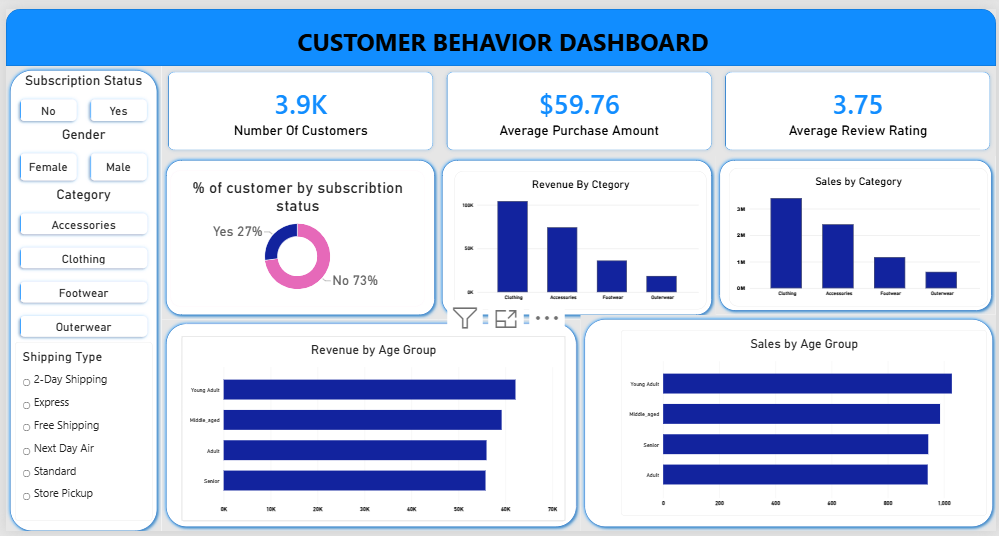

The page's visual inventory and layout, read from the dashboard file:
{"tool":"powerbi","page":{"name":"Page 1","canvas":[2200,1160],"ordinal":0},"visuals":[{"type":"cardVisual","fields":{"Data":["customer_behavior shopping_data.Number Of Customers","customer_behavior shopping_data.Average Purchase Amount","customer_behavior shopping_data.Average Review Rating"]},"box":[345,127.5,1855,200],"z":0},{"type":"shape","box":[5,0,2195,127.5],"z":1000},{"type":"textbox","box":[5,27.5,2195,82.5],"z":2000},{"type":"shape","box":[346.7,690,930,470],"z":3000},{"type":"shape","box":[960,327.5,617.5,362.5],"z":4000},{"type":"shape","box":[1577.5,327.5,622.5,352.5],"z":5000},{"type":"clusteredColumnChart","title":"Revenue By Ctegory","fields":{"Y":["Sum(customer_behavior shopping_data.purchase_amount)"],"Category":["customer_behavior shopping_data.category"]},"box":[995,360,560,307.5],"z":6000},{"type":"clusteredColumnChart","title":"Sales by Category","fields":{"Y":["Sum(customer_behavior shopping_data.customer_id)"],"Category":["customer_behavior shopping_data.category"]},"box":[1605,352.5,575,307.5],"z":7000},{"type":"shape","box":[0,127.5,345,1042.5],"z":8000},{"type":"advancedSlicerVisual","fields":{"Values":["customer_behavior shopping_data.subscription_status"]},"box":[20,140,305,120],"z":9000},{"type":"advancedSlicerVisual","fields":{"Values":["customer_behavior shopping_data.gender"]},"box":[20,260,305,132.5],"z":10000},{"type":"advancedSlicerVisual","fields":{"Values":["customer_behavior shopping_data.category"]},"box":[20,392.5,305,347.5],"z":11000},{"type":"listSlicer","fields":{"Values":["customer_behavior shopping_data.shipping_type"]},"box":[20,740,305,397.5],"z":12000},{"type":"clusteredBarChart","title":"Revenue by Age Group","fields":{"Y":["Sum(customer_behavior shopping_data.purchase_amount)"],"Category":["customer_behavior shopping_data.age_group"]},"box":[390,725,852.5,412.5],"z":13000},{"type":"shape","box":[345,327.5,615,362.5],"z":14000},{"type":"donutChart","title":"% of  customer by subscribtion status","fields":{"Category":["customer_behavior shopping_data.subscription_status"],"Y":["CountNonNull(customer_behavior shopping_data.customer_id)"]},"box":[367.5,360,562.5,300],"z":15000},{"type":"shape","box":[1275,680,925,480],"z":16000},{"type":"clusteredBarChart","title":"Sales by Age Group","fields":{"Y":["CountNonNull(customer_behavior shopping_data.customer_id)"],"Category":["customer_behavior shopping_data.age_group"]},"box":[1367.5,712.5,812.5,412.5],"z":17000}]}

Visuals, with their boxes in screenshot pixels (x1, y1, x2, y2), scaled from the page's 2200x1160 canvas onto the 999x536 screenshot:
cardVisual - customer_behavior shopping_data.Number Of Customers x customer_behavior shopping_data.Average Purchase Amount: [157, 59, 998, 151]
shape: [2, 0, 998, 59]
textbox: [2, 13, 998, 51]
shape: [157, 319, 580, 535]
shape: [436, 151, 716, 319]
shape: [716, 151, 998, 314]
"Revenue By Ctegory" clusteredColumnChart: [452, 166, 706, 308]
"Sales by Category" clusteredColumnChart: [729, 163, 990, 305]
shape: [0, 59, 157, 535]
advancedSlicerVisual - customer_behavior shopping_data.subscription_status: [9, 65, 148, 120]
advancedSlicerVisual - customer_behavior shopping_data.gender: [9, 120, 148, 181]
advancedSlicerVisual - customer_behavior shopping_data.category: [9, 181, 148, 342]
listSlicer - customer_behavior shopping_data.shipping_type: [9, 342, 148, 526]
"Revenue by Age Group" clusteredBarChart: [177, 335, 564, 526]
shape: [157, 151, 436, 319]
"% of  customer by subscribtion status" donutChart: [167, 166, 422, 305]
shape: [579, 314, 998, 535]
"Sales by Age Group" clusteredBarChart: [621, 329, 990, 520]
